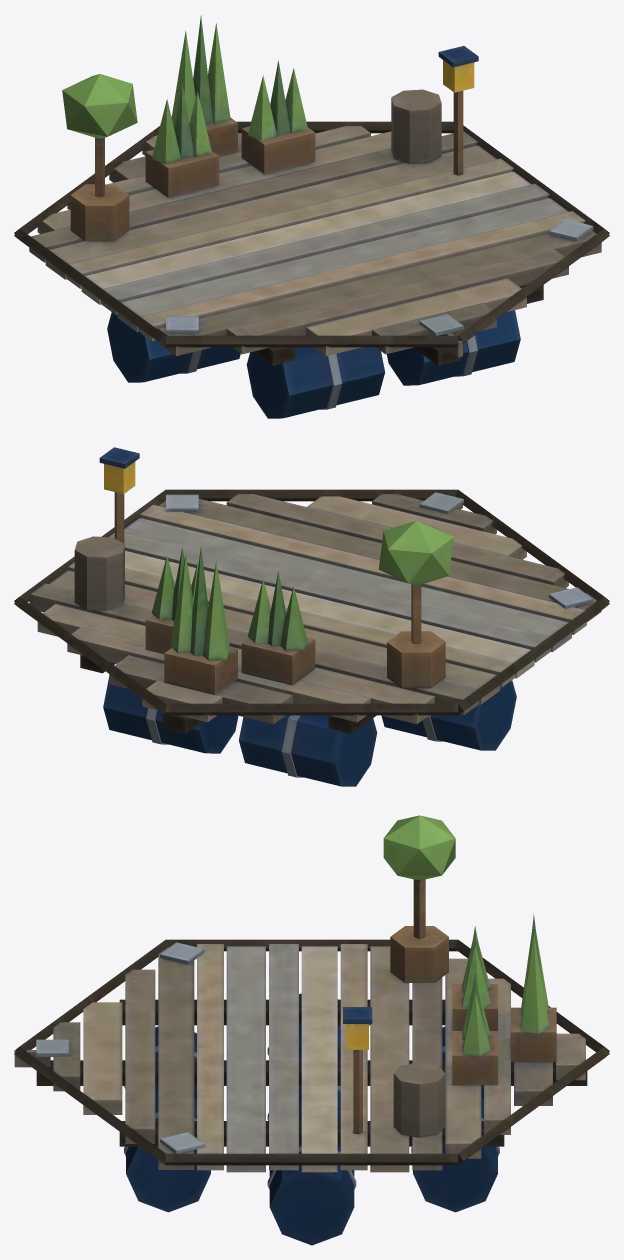
The model's file is raft-d-age10.glb.
The picture shows the model from 3 angles, top to bottom: view 1: azimuth 30°, elevation 25°; view 2: azimuth 150°, elevation 25°; view 3: azimuth 270°, elevation 25°; orthographic projection.
Parts seen in each view (by area): view 1: raft-d-age10; view 2: raft-d-age10; view 3: raft-d-age10.
Boxes of the visible parts, <box> form: raft-d-age10: <box>14,15,609,418</box>; raft-d-age10: <box>14,447,609,786</box>; raft-d-age10: <box>14,815,609,1245</box>.
Size of the model in its own units: 1.59 by 0.8965 by 1.83.
Materials: 1 (1 with a texture image).
